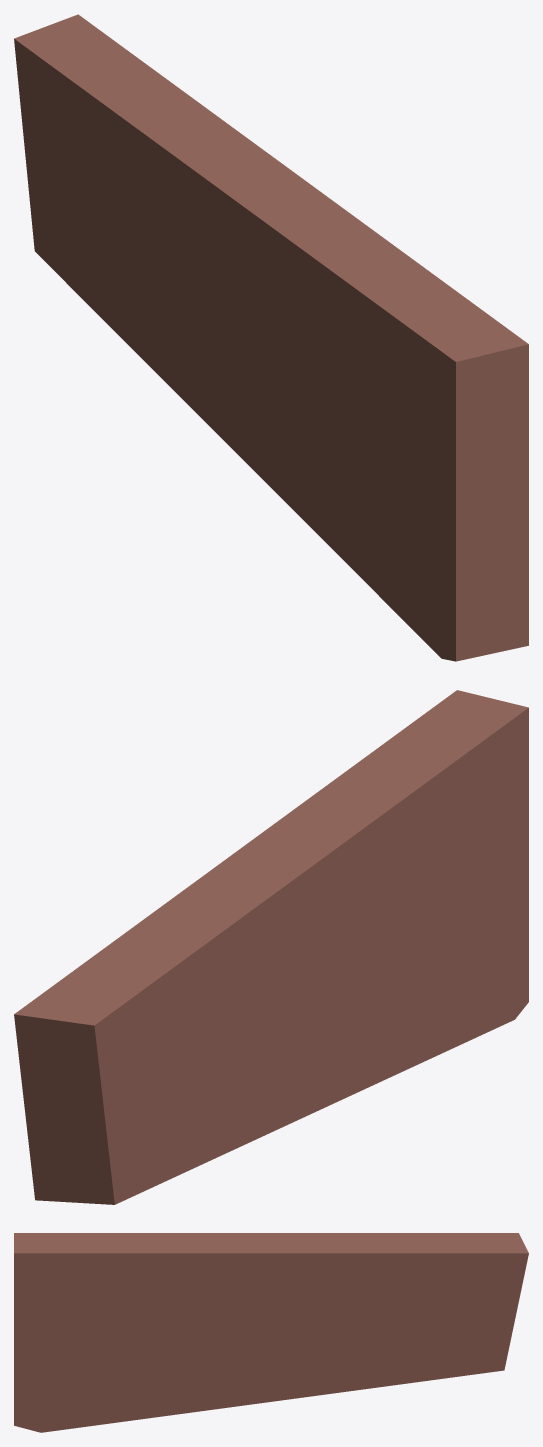
The model's file is T_MurDetruit_6.6.fbx.
3 views of the same model, one above another, from view 1: azimuth 30°, elevation 25°; view 2: azimuth 150°, elevation 25°; view 3: azimuth 270°, elevation 25° (orthographic). The views are drawn at different scales.
Visible parts, largest first — view 1: T_MurDetruit_6.6; view 2: T_MurDetruit_6.6; view 3: T_MurDetruit_6.6.
Boxes of the visible parts, <box> form: T_MurDetruit_6.6: <box>14,14,528,661</box>; T_MurDetruit_6.6: <box>14,690,528,1204</box>; T_MurDetruit_6.6: <box>14,1233,528,1432</box>.
Bounding box in the file's own units: 13.48 × 55.36 × 144.
